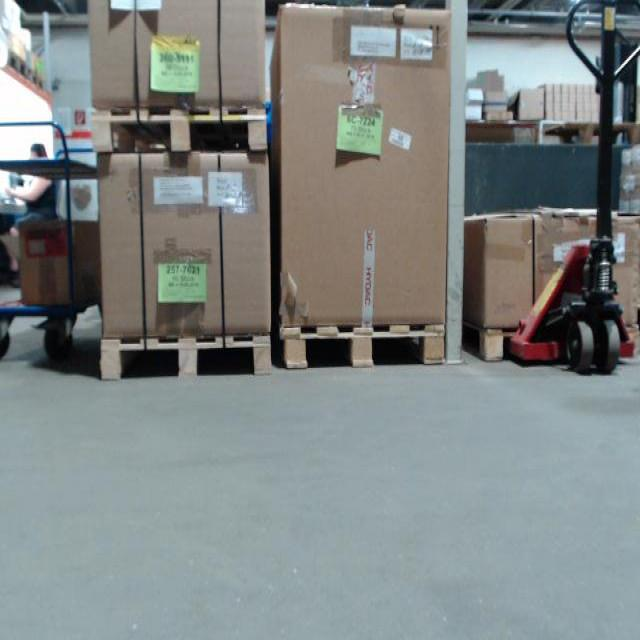pallet: (89, 102, 269, 155), (277, 323, 448, 370), (100, 334, 272, 380), (463, 327, 506, 357)
pallet_truck: (498, 3, 639, 377)
